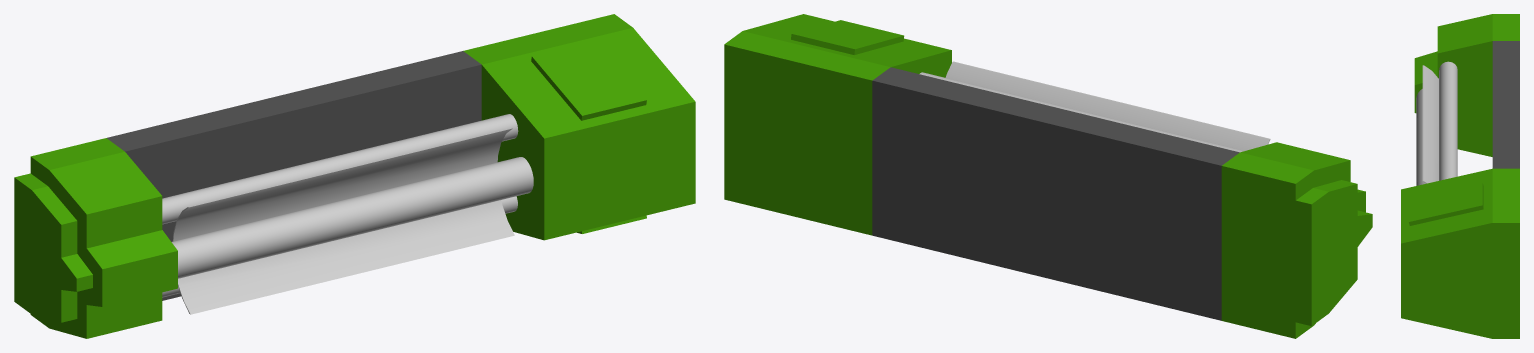
The model's file is cnc_rolling_machine_3_state_3.dae.
The picture shows the model from 3 angles, left to right: view 1: azimuth 30°, elevation 25°; view 2: azimuth 150°, elevation 25°; view 3: azimuth 270°, elevation 25°; orthographic projection. The views are drawn at different scales.
Parts seen in each view (by area): view 1: coords_ME_ID31_MA_material_1, coords_ME_ID17_MA_material_1, coords_ME_ID55_MA_material, coords_ME_ID37_MA_material_11, coords_ME_ID11_MA_material_11, coords_ME_ID3_MA_material_11, coords_ME_ID49_MA_material_1; view 2: coords_ME_ID55_MA_material, coords_ME_ID31_MA_material_1, coords_ME_ID17_MA_material_1, coords_ME_ID37_MA_material_11, coords_ME_ID49_MA_material_1, coords_ME_ID3_MA_material_11; view 3: coords_ME_ID31_MA_material_1, coords_ME_ID17_MA_material_1, coords_ME_ID55_MA_material, coords_ME_ID3_MA_material_11, coords_ME_ID49_MA_material_1, coords_ME_ID37_MA_material_11, coords_ME_ID11_MA_material_11.
Boxes of the visible parts, box(x1,y1,x2,y2) form: coords_ME_ID31_MA_material_1: box(463, 14, 695, 240); coords_ME_ID17_MA_material_1: box(14, 138, 177, 338); coords_ME_ID55_MA_material: box(107, 51, 481, 300); coords_ME_ID37_MA_material_11: box(172, 128, 514, 314); coords_ME_ID11_MA_material_11: box(171, 157, 533, 278); coords_ME_ID3_MA_material_11: box(162, 114, 518, 224); coords_ME_ID49_MA_material_1: box(531, 40, 646, 120); coords_ME_ID55_MA_material: box(872, 67, 1239, 320); coords_ME_ID31_MA_material_1: box(724, 14, 951, 235); coords_ME_ID17_MA_material_1: box(1221, 142, 1372, 338); coords_ME_ID37_MA_material_11: box(945, 61, 1270, 150); coords_ME_ID49_MA_material_1: box(791, 20, 904, 54); coords_ME_ID3_MA_material_11: box(919, 72, 1244, 152); coords_ME_ID31_MA_material_1: box(1401, 168, 1519, 338); coords_ME_ID17_MA_material_1: box(1414, 14, 1519, 156); coords_ME_ID55_MA_material: box(1492, 41, 1519, 168); coords_ME_ID3_MA_material_11: box(1439, 61, 1457, 180); coords_ME_ID49_MA_material_1: box(1408, 182, 1483, 225); coords_ME_ID37_MA_material_11: box(1422, 65, 1438, 183); coords_ME_ID11_MA_material_11: box(1416, 89, 1425, 185).
Size of the model in its own units: 69.92 by 18.25 by 16.38.
